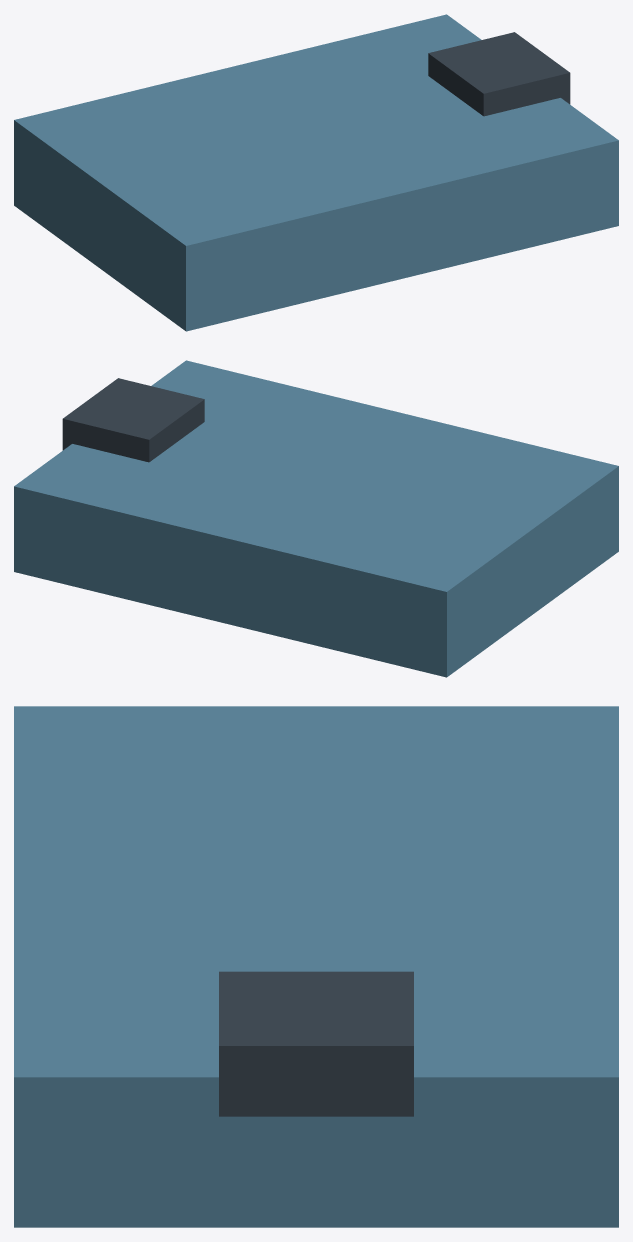
File: receiver_module.glb
3 views of the same model, one above another, from view 1: azimuth 30°, elevation 25°; view 2: azimuth 150°, elevation 25°; view 3: azimuth 270°, elevation 25° (orthographic). The views are drawn at different scales.
Parts seen in each view (by area): view 1: receiver, chip; view 2: receiver, chip; view 3: receiver, chip.
Boxes of the visible parts, bbox=[...] form: receiver: bbox=[14, 14, 618, 331]; chip: bbox=[428, 32, 570, 116]; receiver: bbox=[14, 360, 618, 677]; chip: bbox=[62, 378, 204, 462]; receiver: bbox=[14, 706, 618, 1227]; chip: bbox=[219, 971, 413, 1116].
Bounding box in the file's own units: 0.92 × 0.215 × 0.62.
